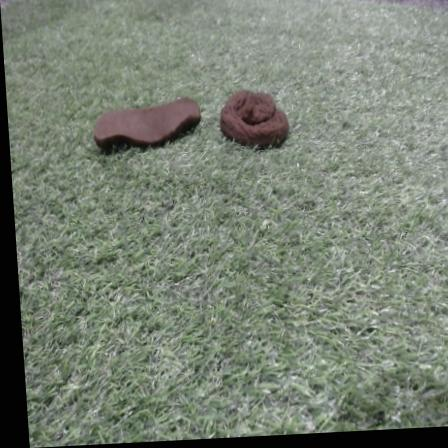dog-poop: (88, 96, 208, 155), (220, 79, 288, 159)
